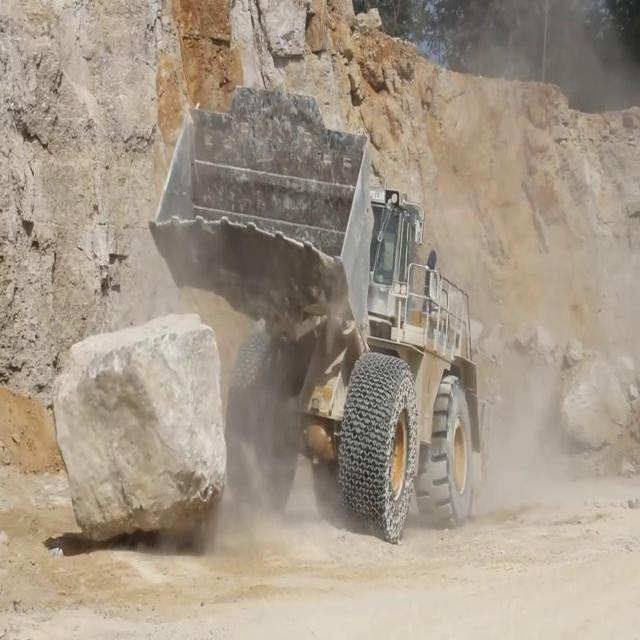buldozerpayloadergrader: (148, 84, 494, 543)
